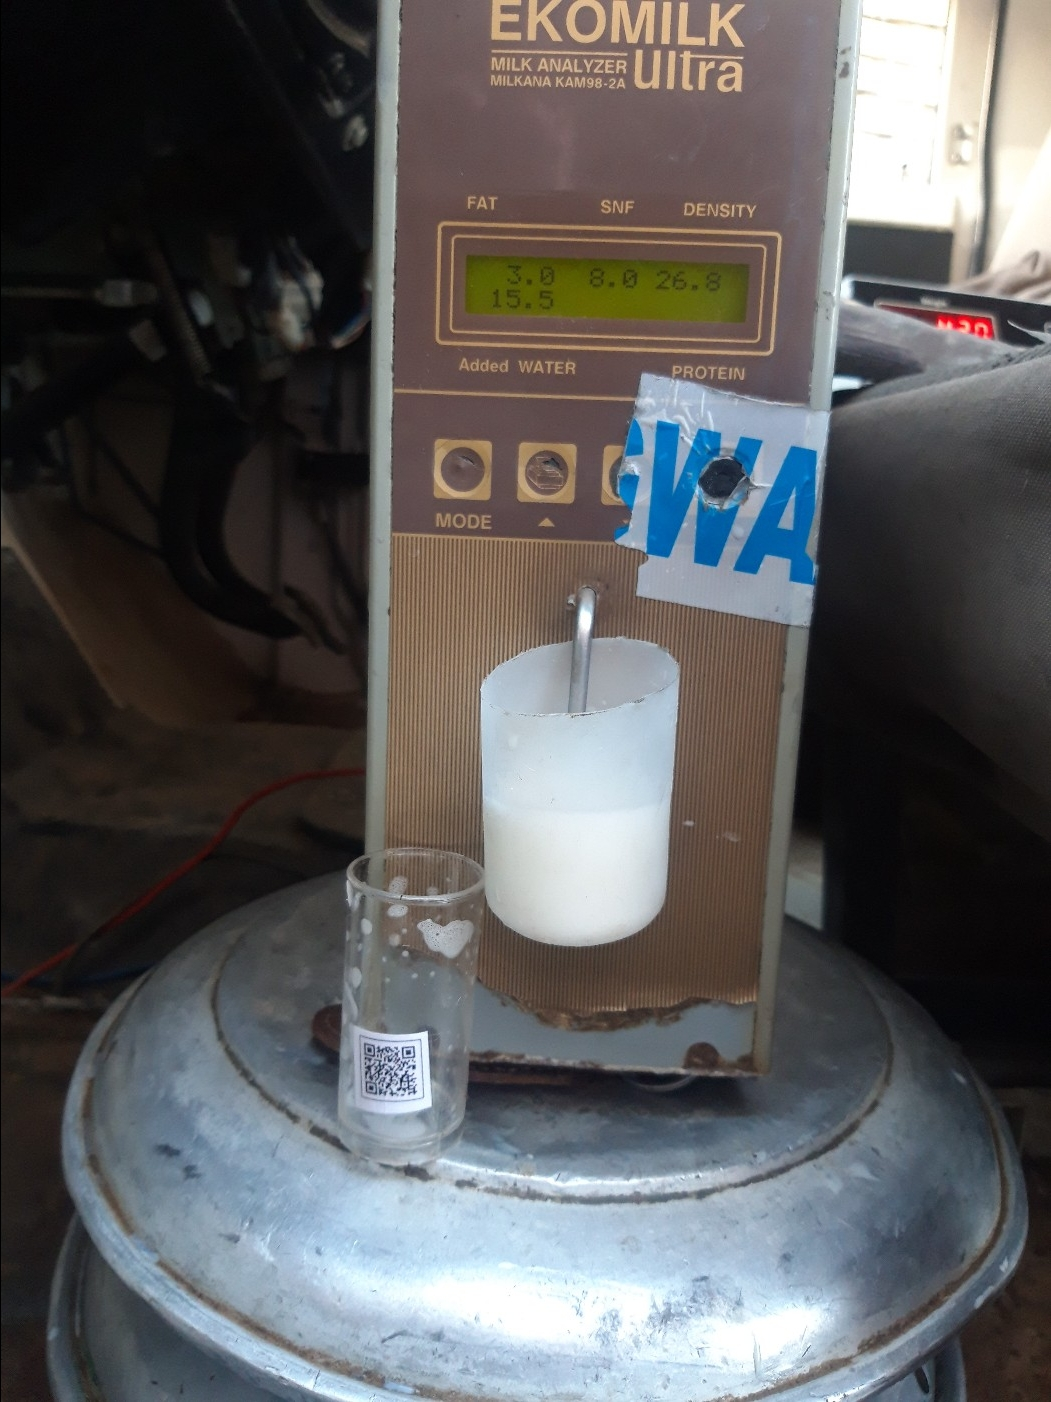lcd: (458, 251, 754, 330)
qr: (354, 1026, 440, 1107)
